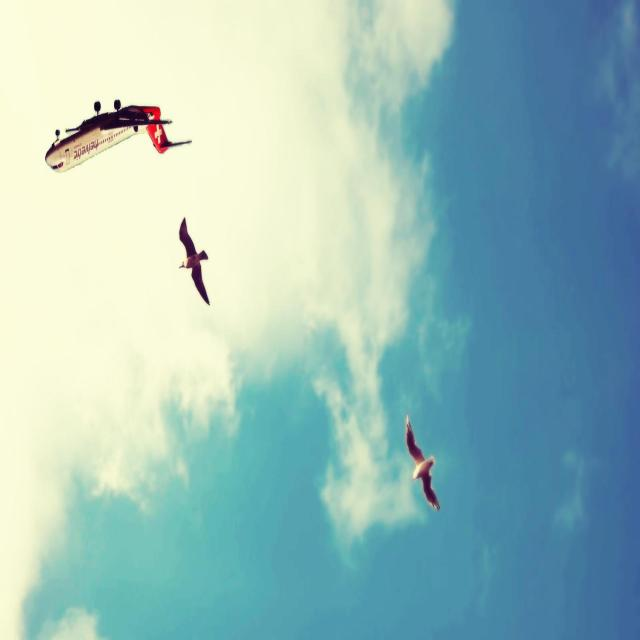airplane: (44, 98, 192, 173)
